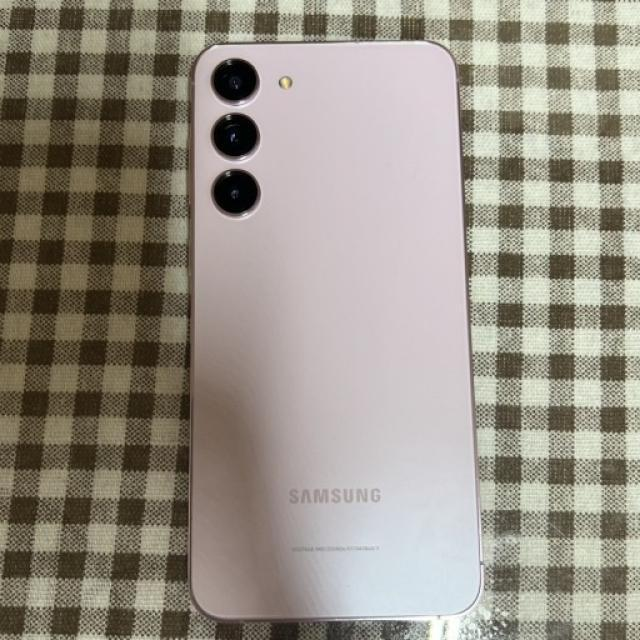phone: (184, 38, 482, 628)
